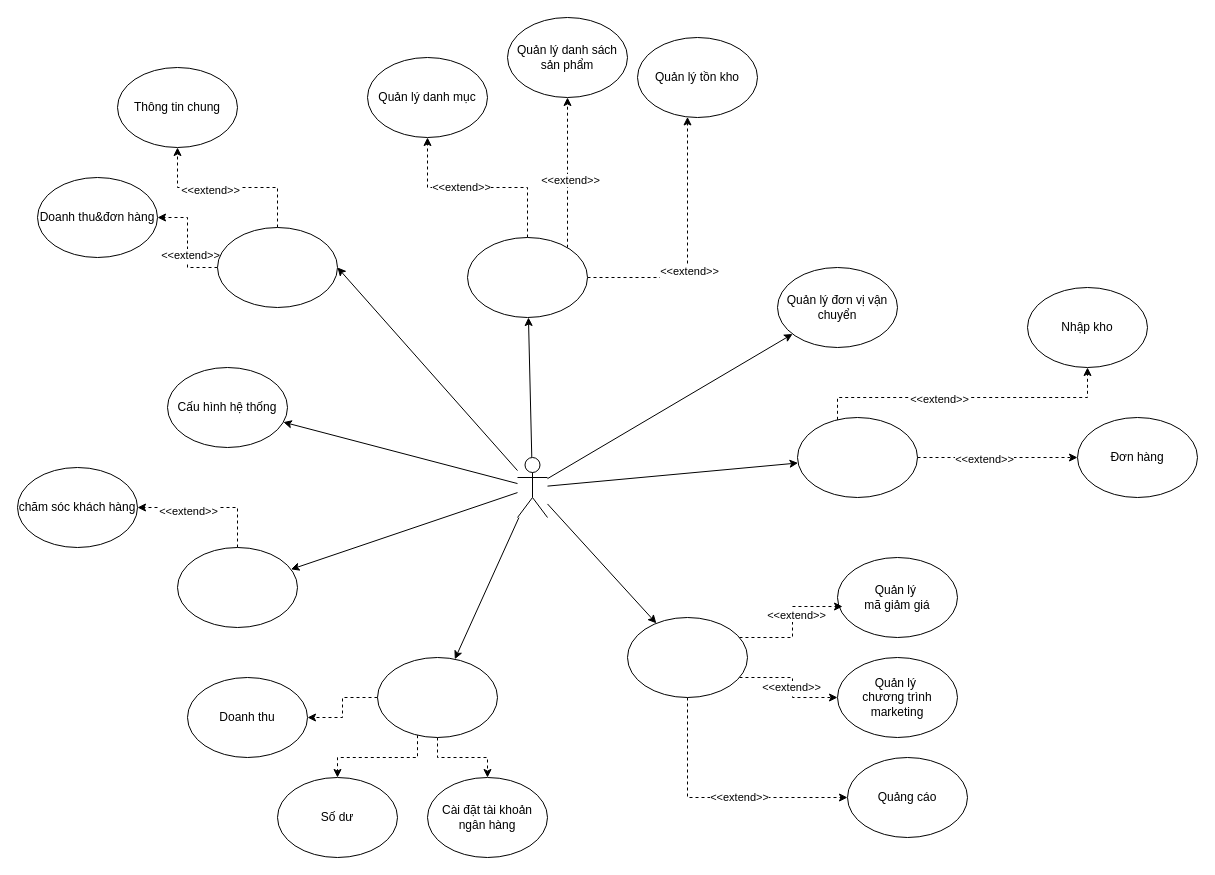
Image size: 1215x875. Some labels were removed from this diagram. Each missing label, with the centre of its shape:
"Administrator" belongs at (532,487).
"Dashboard" belongs at (277,267).
"marketing" belongs at (687,657).
"quản lý khách hàng" belongs at (237,587).
"Quản lý sản phẩm" belongs at (527,277).
"Tài chính" belongs at (437,697).
"Vận hành" belongs at (857,457).
